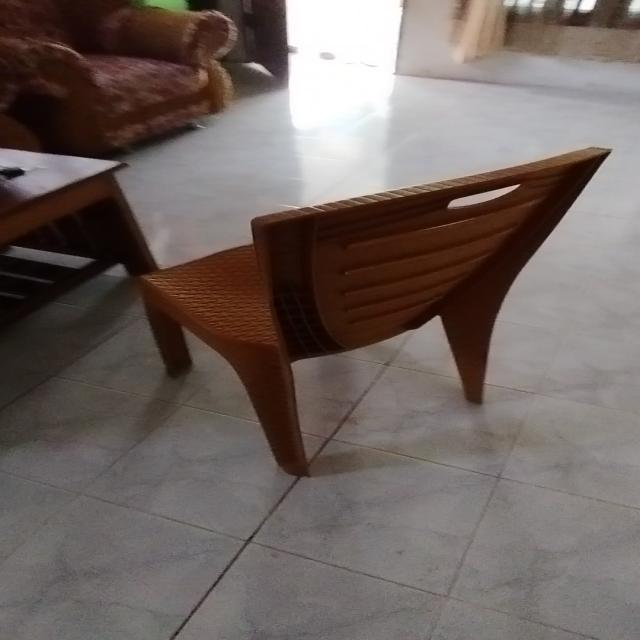chair: (127, 132, 630, 488)
